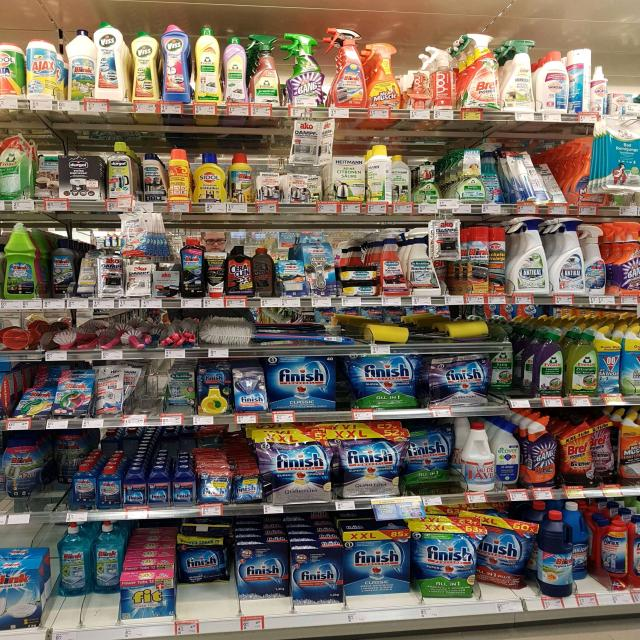unorganised: (344, 527, 422, 603), (56, 520, 119, 604), (478, 516, 539, 595), (503, 142, 564, 207), (176, 536, 234, 598), (235, 547, 293, 605), (93, 362, 137, 419), (2, 444, 39, 500), (567, 47, 591, 115), (364, 147, 394, 201), (569, 505, 591, 575), (590, 419, 616, 477), (490, 328, 514, 387), (164, 371, 194, 414), (252, 245, 275, 300), (482, 141, 502, 203), (140, 153, 164, 202), (51, 243, 72, 298), (55, 434, 79, 482), (75, 248, 97, 297), (392, 153, 411, 204), (308, 167, 324, 201)
